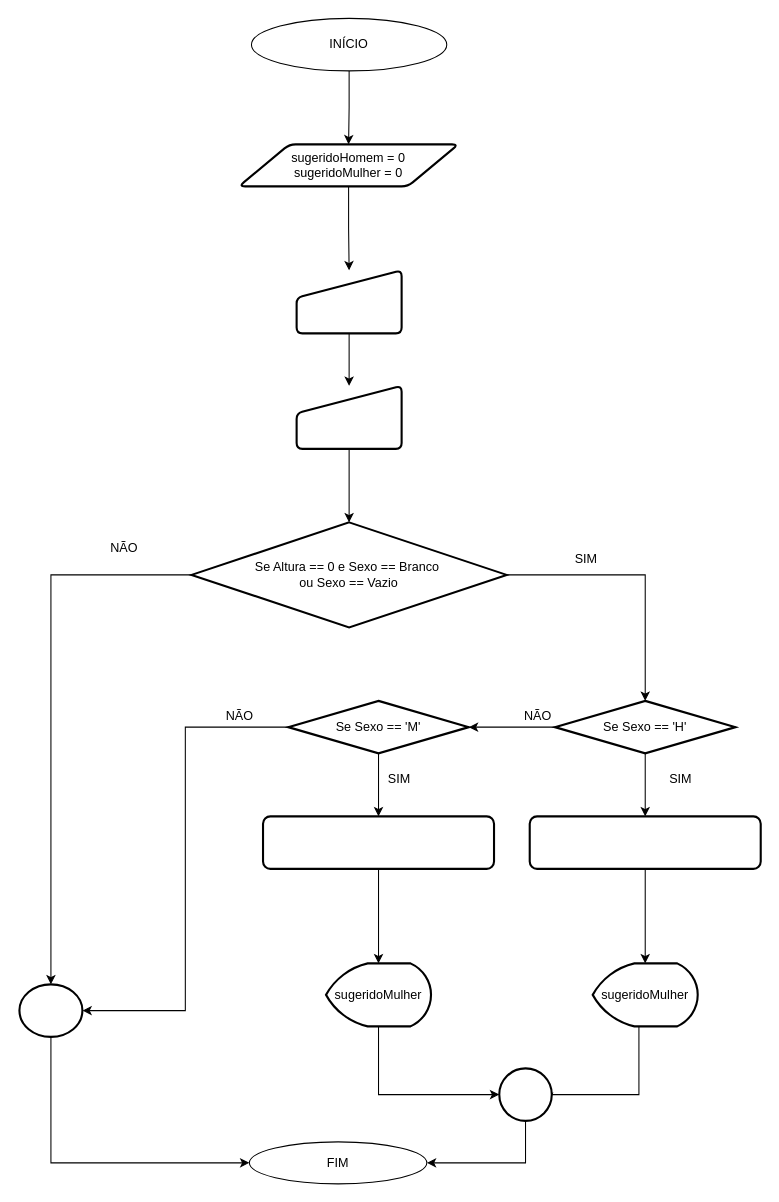
Some shapes in this 779 by 1202 pixel diagram are drawn without their labels. Here are the shapes that lost their labels. From the top down, the centre of each, then its label:
point 348,301: Altura = 0.0
point 348,416: Sexo = ""
point 378,842: sugeridoMulher = (62,1 * Altura) - 44,7
point 644,842: sugeridoMulher = (72,7 * Altura) - 58
